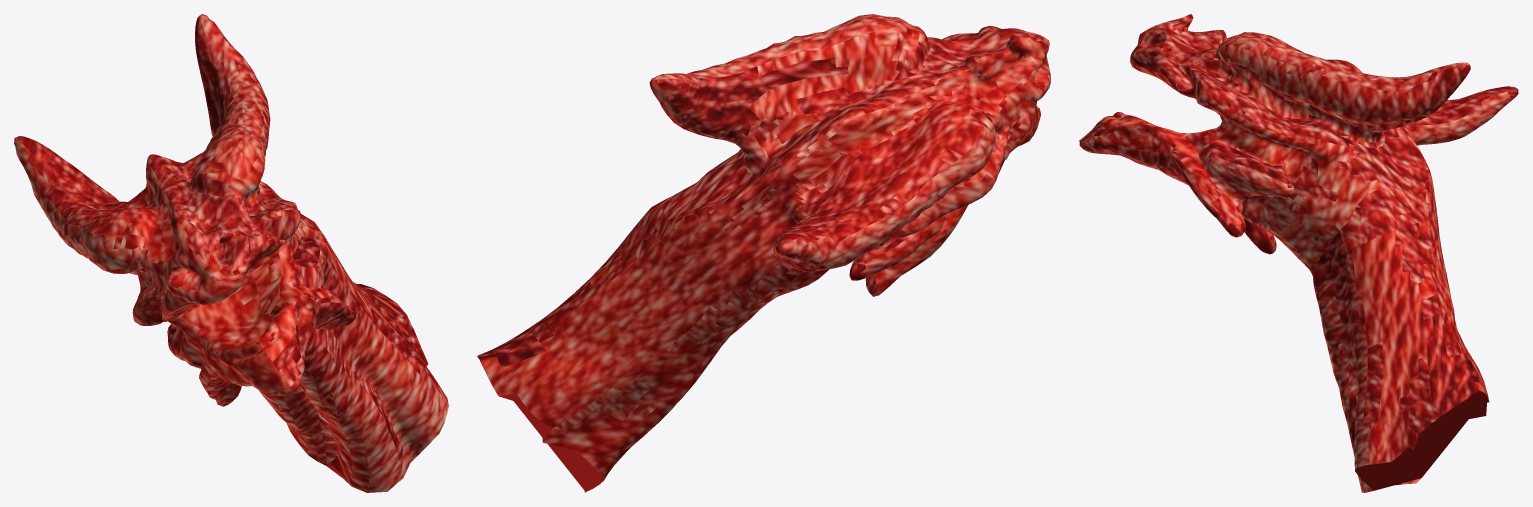
Rendered from Cabeza2.obj.
3 renders of one model, left to right at view 1: azimuth 30°, elevation 25°; view 2: azimuth 150°, elevation 25°; view 3: azimuth 270°, elevation 25°, orthographic. The views are drawn at different scales.
Parts seen in each view (by area): view 1: Cabeza2; view 2: Cabeza2; view 3: Cabeza2.
Boxes of the visible parts, left/top/right/bottom form: Cabeza2: left=14, top=14, right=448, bottom=492; Cabeza2: left=477, top=14, right=1050, bottom=492; Cabeza2: left=1079, top=14, right=1518, bottom=492.
Size of the model in its own units: 9.85 by 10.55 by 10.99.
